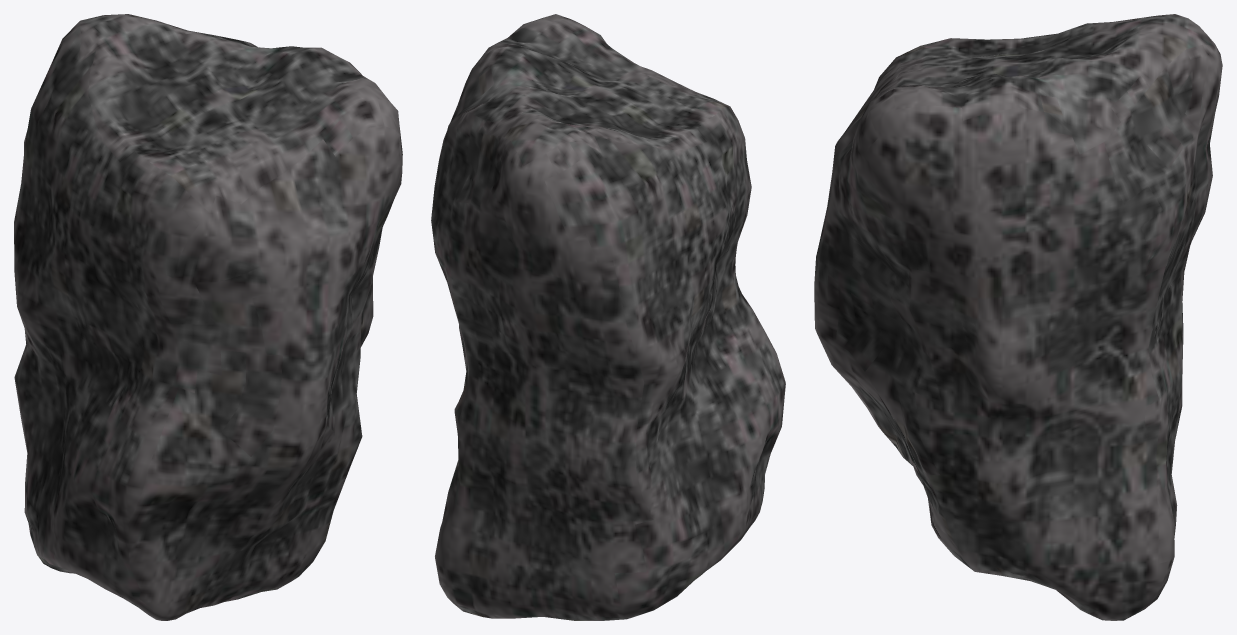
File: asteroid-02.glb
3 views of the same model, side by side, from view 1: azimuth 30°, elevation 25°; view 2: azimuth 150°, elevation 25°; view 3: azimuth 270°, elevation 25° (orthographic). The views are drawn at different scales.
Visible parts, largest first — view 1: Asteroid; view 2: Asteroid; view 3: Asteroid.
Boxes of the visible parts, x1,y1,x2,y2 form: Asteroid: (14, 14, 402, 620); Asteroid: (431, 14, 785, 620); Asteroid: (814, 14, 1222, 620).
Bounding box in the file's own units: 5.29 × 9.09 × 6.1.
1 material, 1 textured.
